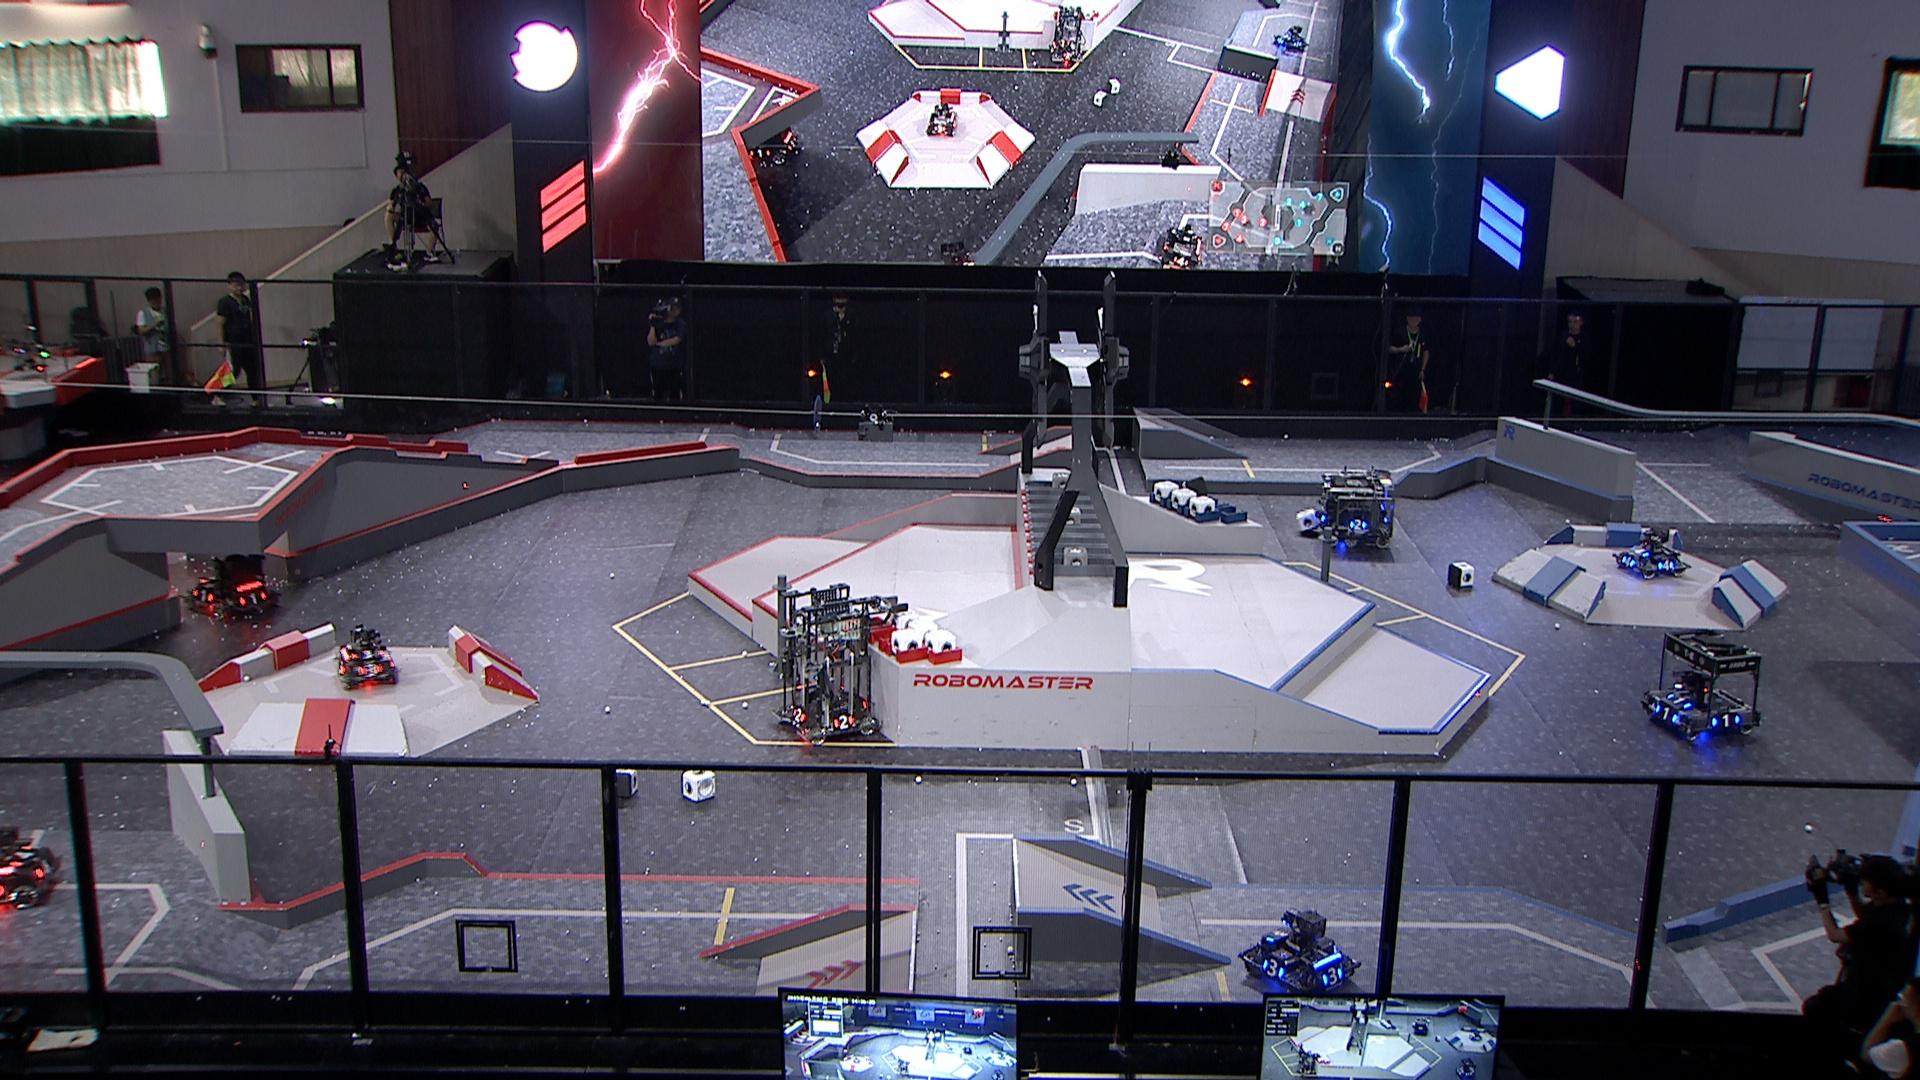armor: (7, 845, 34, 868), (237, 589, 266, 607), (1652, 704, 1677, 723), (1665, 690, 1688, 709), (1324, 967, 1346, 986), (34, 856, 53, 880), (1712, 713, 1741, 728), (1269, 924, 1288, 944), (1262, 960, 1284, 977), (357, 665, 382, 678), (790, 707, 807, 725), (193, 588, 214, 603), (835, 716, 856, 731), (357, 647, 378, 661), (1631, 545, 1652, 556), (196, 572, 215, 585), (1349, 518, 1366, 531), (1621, 553, 1636, 566), (334, 659, 345, 676), (1659, 559, 1675, 570)
car: (767, 585, 887, 746), (1640, 626, 1766, 745), (1238, 903, 1362, 1000), (1311, 465, 1396, 556), (182, 543, 278, 622), (1611, 524, 1689, 584), (334, 621, 404, 688)
ignore: (1048, 3, 1092, 71), (1155, 219, 1205, 268), (752, 131, 800, 166), (1269, 20, 1311, 58), (926, 98, 961, 138), (936, 235, 978, 268), (1296, 1048, 1323, 1077), (1408, 1011, 1433, 1036), (1468, 1025, 1487, 1043), (894, 1058, 911, 1077), (960, 1044, 973, 1055)
